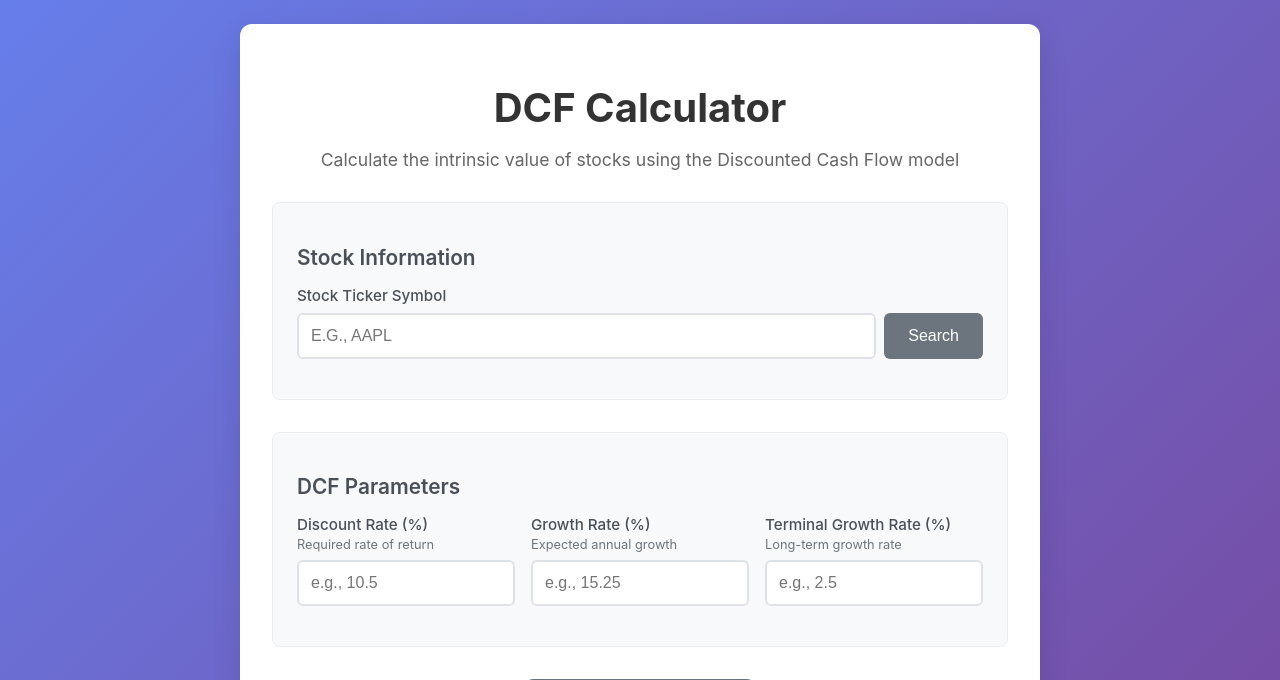
Test: DCFCalculator › Stock Ticker Search › shows error when financial data fetch fails
Type "INVALID" into the field labelled "Stock Ticker Symbol" at (587, 336), box [297,313,876,359]
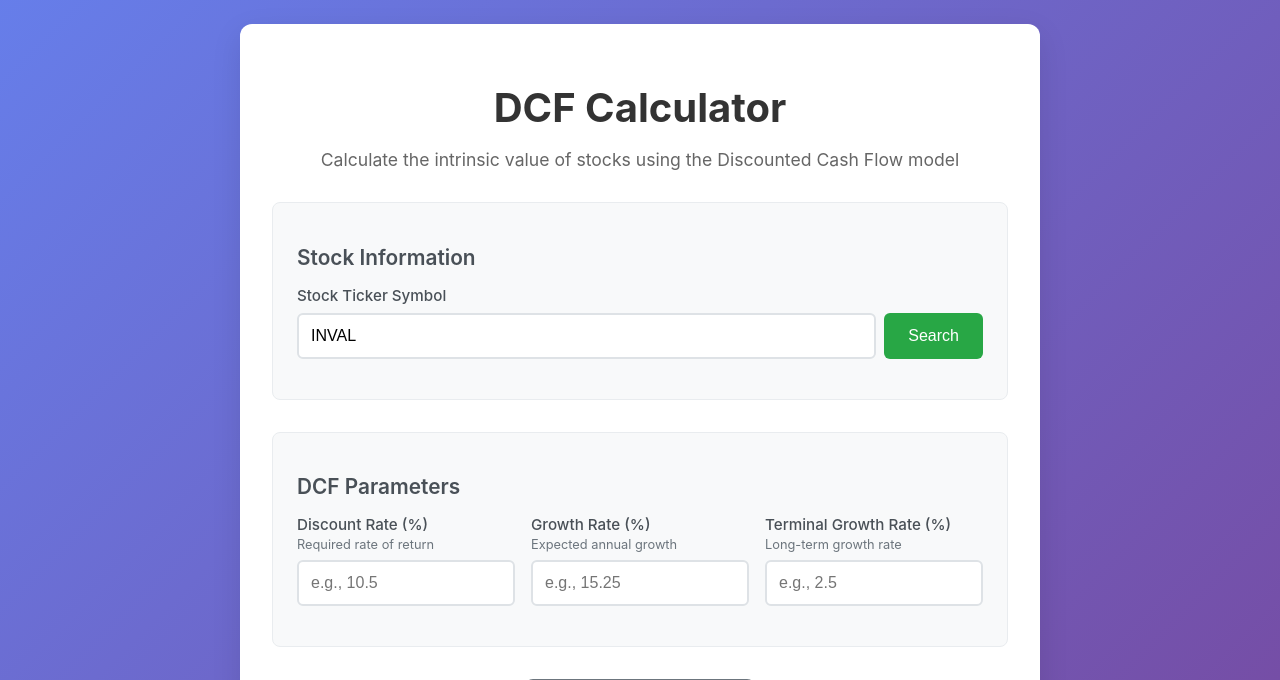
Click the button "Search" at (934, 336), box [884,313,983,359]
(page scrolled)
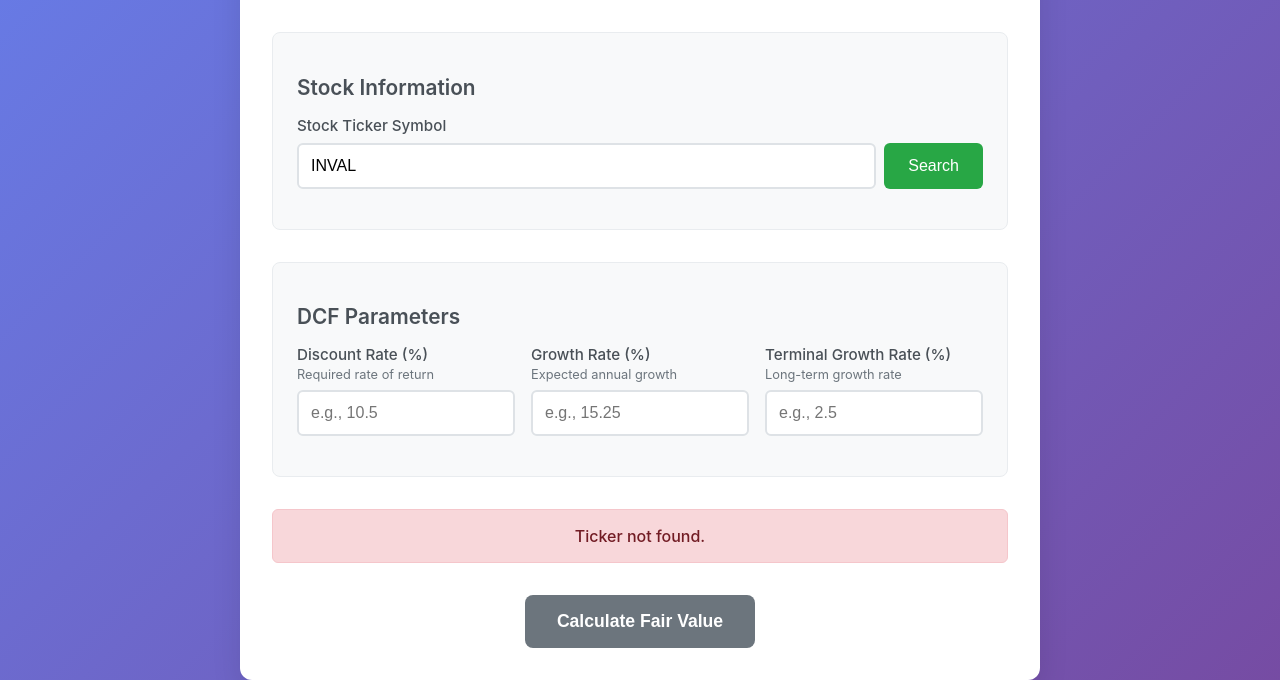
expect the text "Ticker not found." is shown: met, box [272,509,1008,563]
